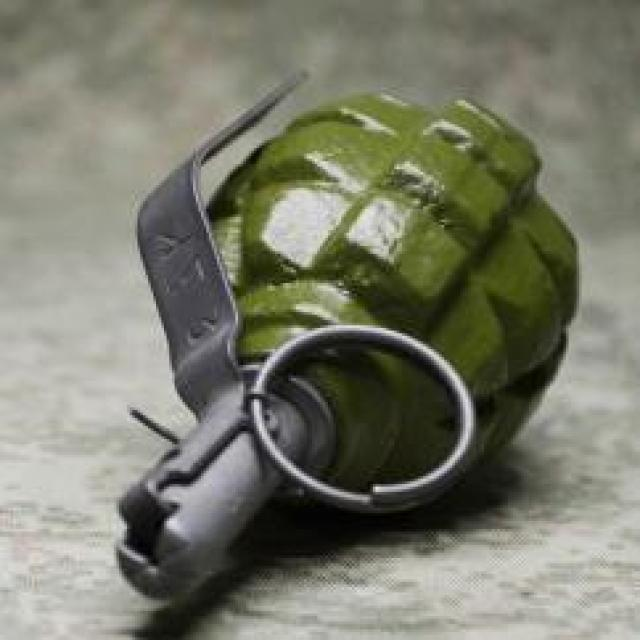grenade: (123, 72, 578, 604)
